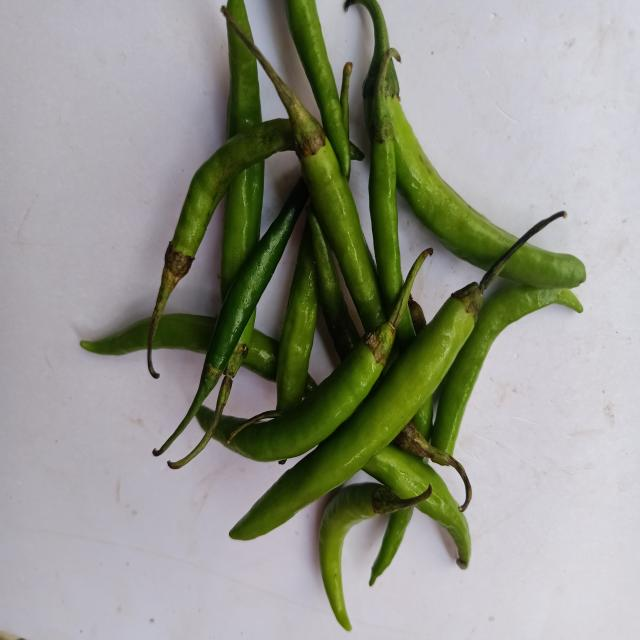Green Chilly: (230, 283, 482, 540), (222, 6, 386, 332), (213, 237, 437, 462), (152, 177, 309, 456), (146, 117, 295, 378), (432, 285, 584, 455), (390, 95, 516, 270), (319, 483, 432, 632), (369, 47, 403, 313), (501, 244, 587, 287), (398, 312, 415, 347)
